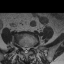CCS_normal: (25, 45, 27, 54)
LFS_stenosis: (29, 45, 32, 50)
LLS_normal: (27, 45, 29, 53)
RFS_normal: (20, 44, 23, 50)
RLS_normal: (23, 45, 25, 53)
